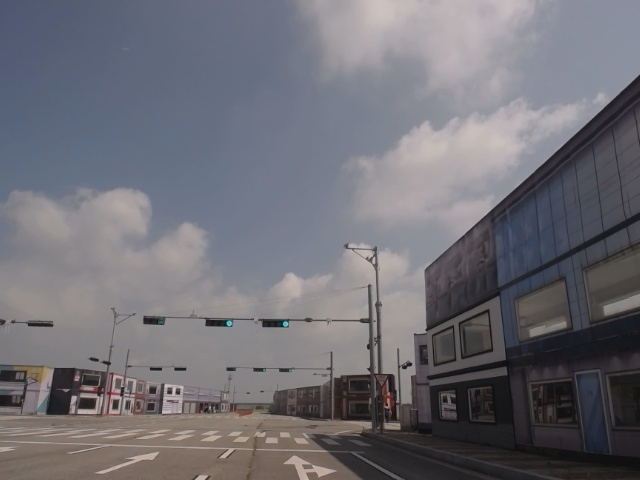straight_green_4: (260, 318, 288, 330), (205, 317, 234, 325)
